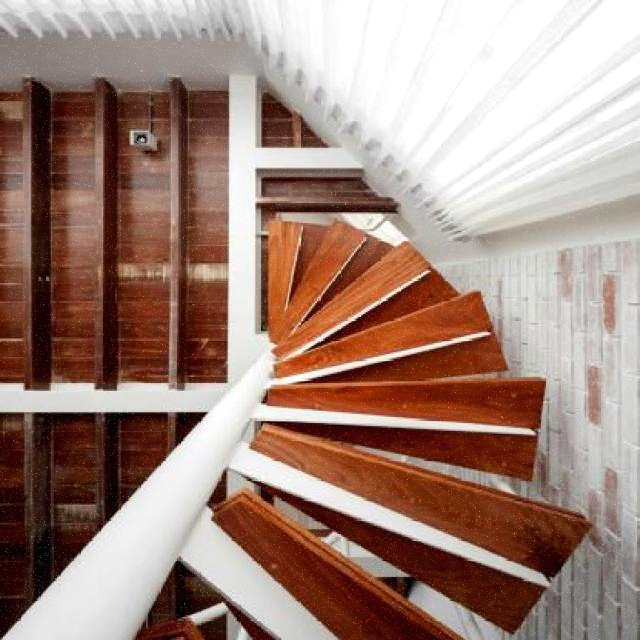stair: (53, 212, 607, 640)
